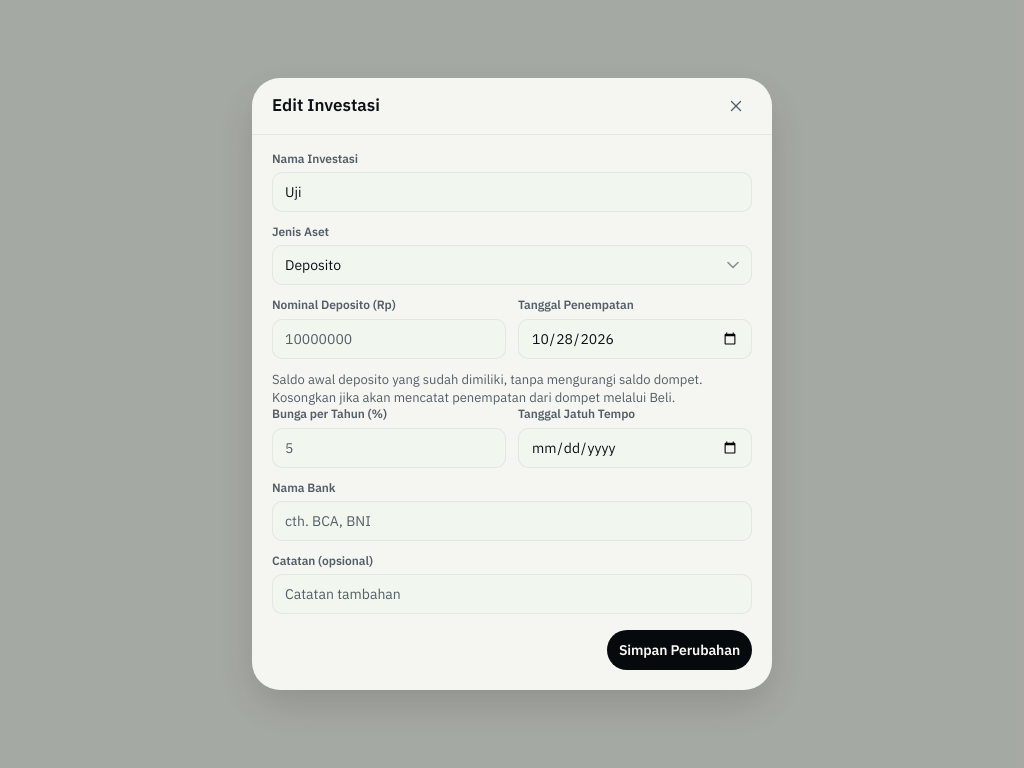
Scenario: blocks invalid nominal -100 before saving
Step 1. Type "-100" into the number field named "Nominal Deposito (Rp)" → {"x": 389, "y": 339}, box [272,319,506,359]
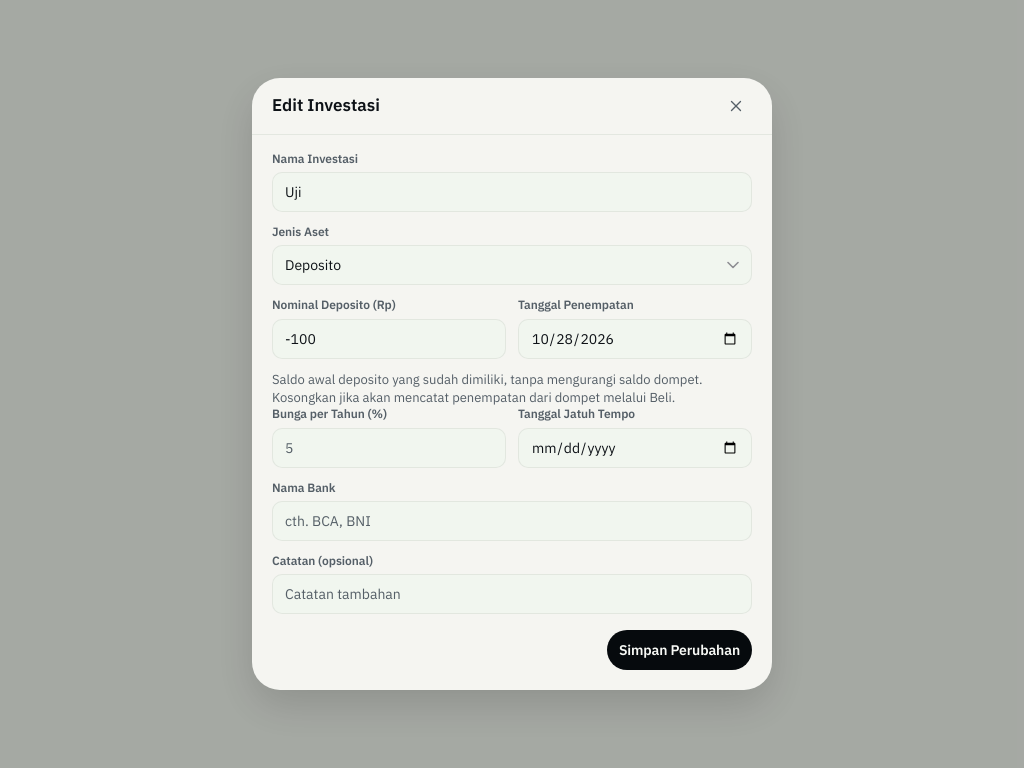
Step 2. Click the button "Simpan Perubahan" → {"x": 679, "y": 650}, box [607,630,752,670]
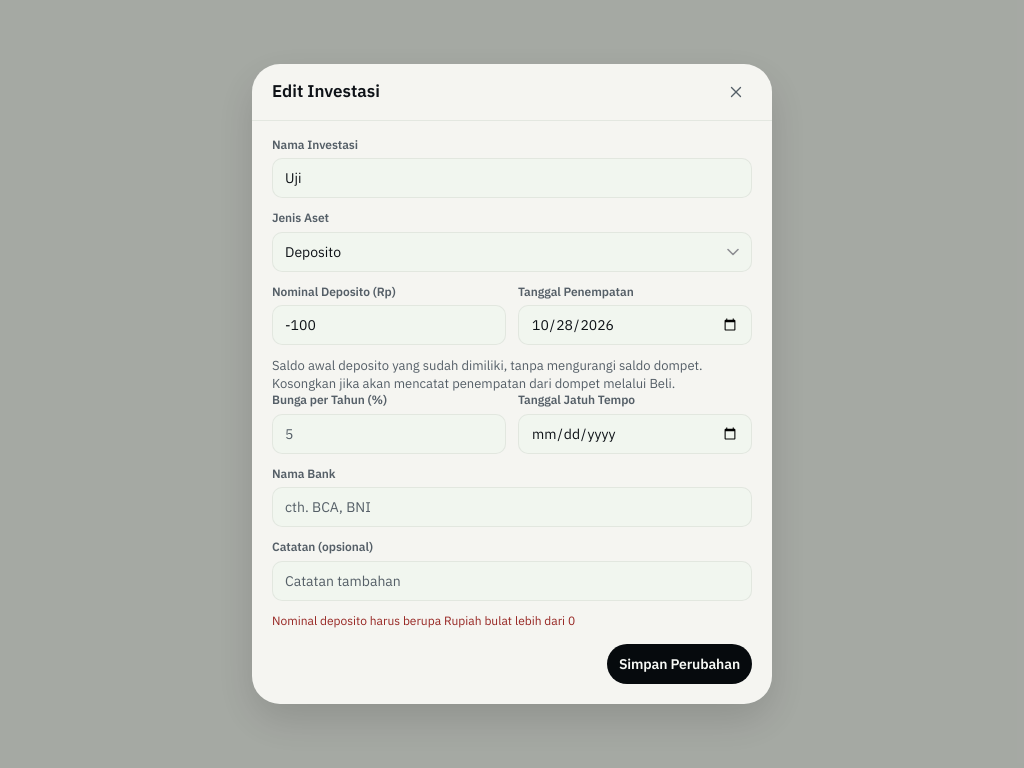
Now the text "Nominal deposito harus berupa Rupiah bulat lebih dari 0" is shown, box [272,613,575,628]
